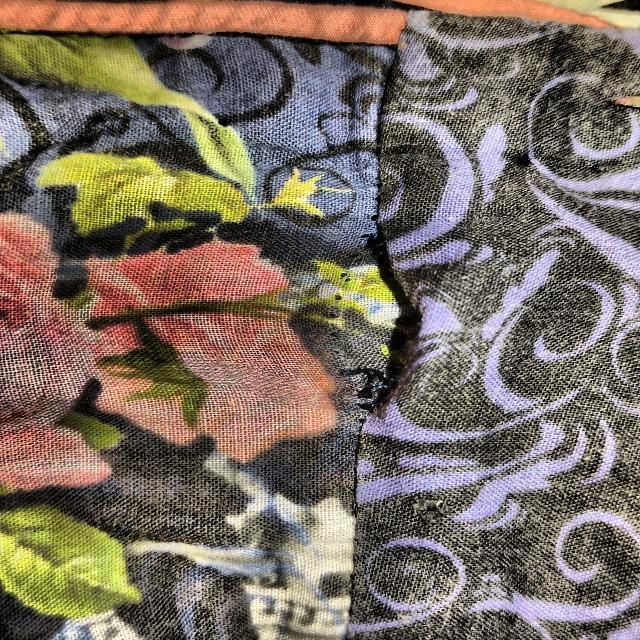seam: (278, 185, 485, 466)
